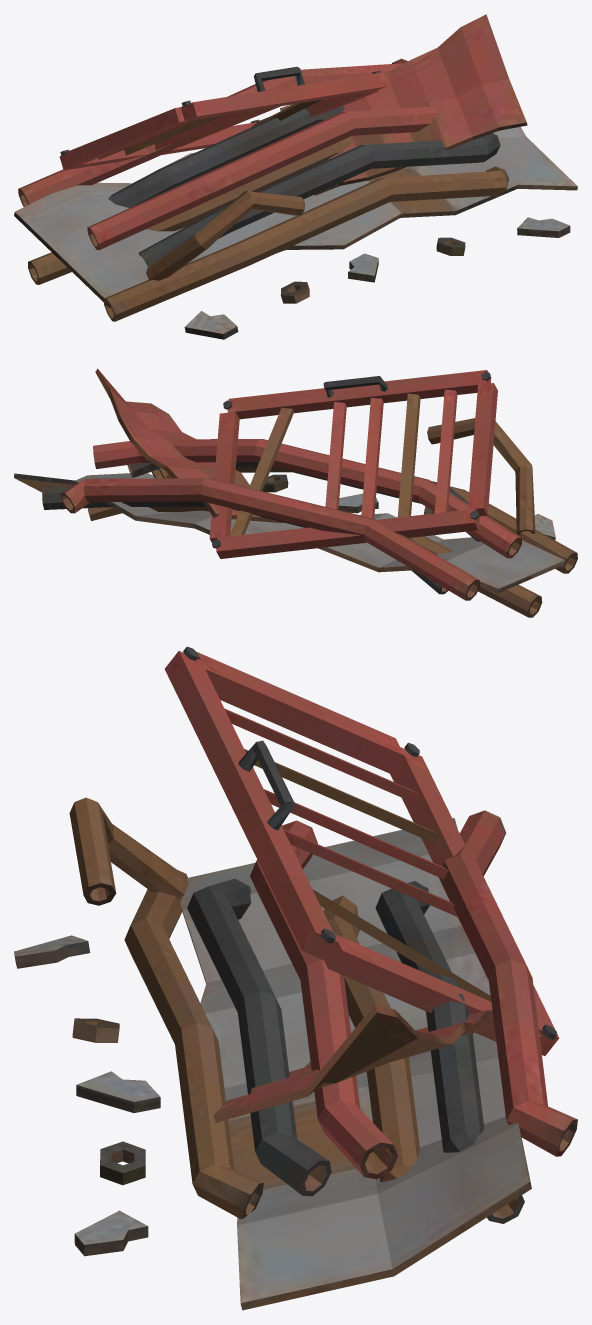
The model's file is JV24_scrap_metal_piles_v3.glb.
3 views of the same model, one above another, from view 1: azimuth 30°, elevation 25°; view 2: azimuth 150°, elevation 25°; view 3: azimuth 270°, elevation 25° (orthographic). The views are drawn at different scales.
Parts seen in each view (by area): view 1: Scrap Pile - Bent Conduit; view 2: Scrap Pile - Bent Conduit; view 3: Scrap Pile - Bent Conduit.
Boxes of the visible parts, x1,y1,x2,y2 form: Scrap Pile - Bent Conduit: (14, 14, 577, 339); Scrap Pile - Bent Conduit: (14, 368, 577, 617); Scrap Pile - Bent Conduit: (14, 646, 577, 1310).
Bounding box in the file's own units: 1.5 × 0.5634 × 0.864.
5 materials, 5 textured.
